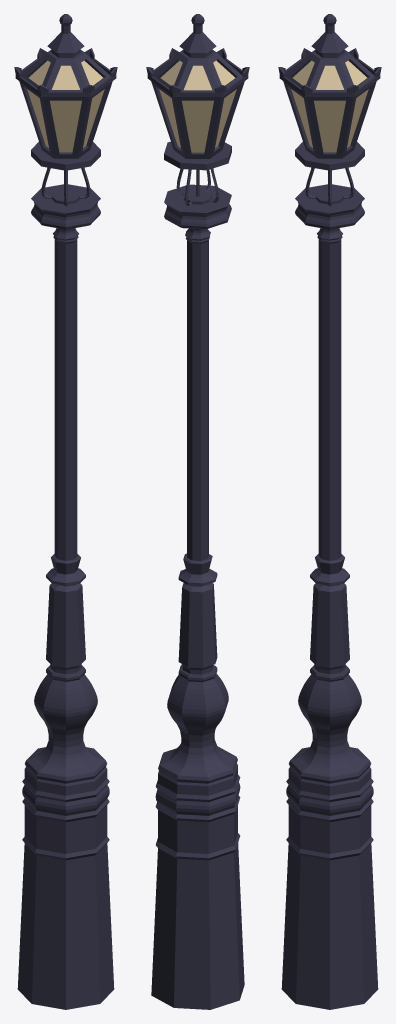
File: lightpole.fbx
3 renders of one model, left to right at view 1: azimuth 90°, elevation 25°; view 2: azimuth 150°, elevation 25°; view 3: azimuth 270°, elevation 25°, orthographic.
Parts seen in each view (by area): view 1: Cylinder; view 2: Cylinder; view 3: Cylinder.
Boxes of the visible parts, x1,y1,x2,y2 form: Cylinder: [14, 14, 117, 1009]; Cylinder: [146, 14, 249, 1009]; Cylinder: [278, 14, 381, 1009].
Size of the model in its own units: 142 by 1583 by 152.
Materials: 1 (1 with a texture image).
